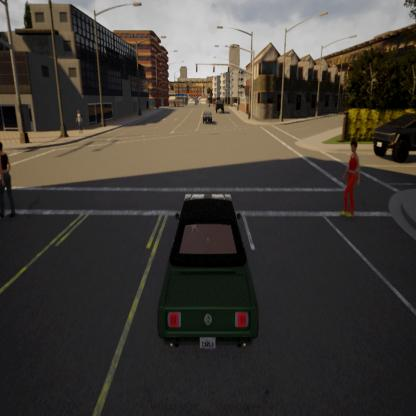Cars: (153, 175, 267, 356), (368, 93, 416, 165), (203, 109, 216, 131), (214, 98, 229, 114)
Pedestrian: (330, 131, 366, 221), (0, 135, 23, 221)
